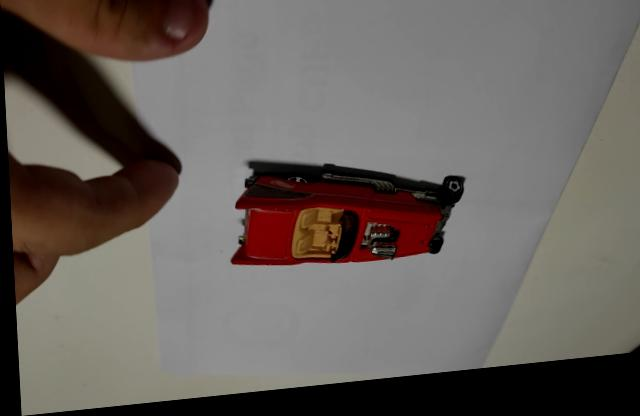03_V8: (227, 164, 465, 272)
